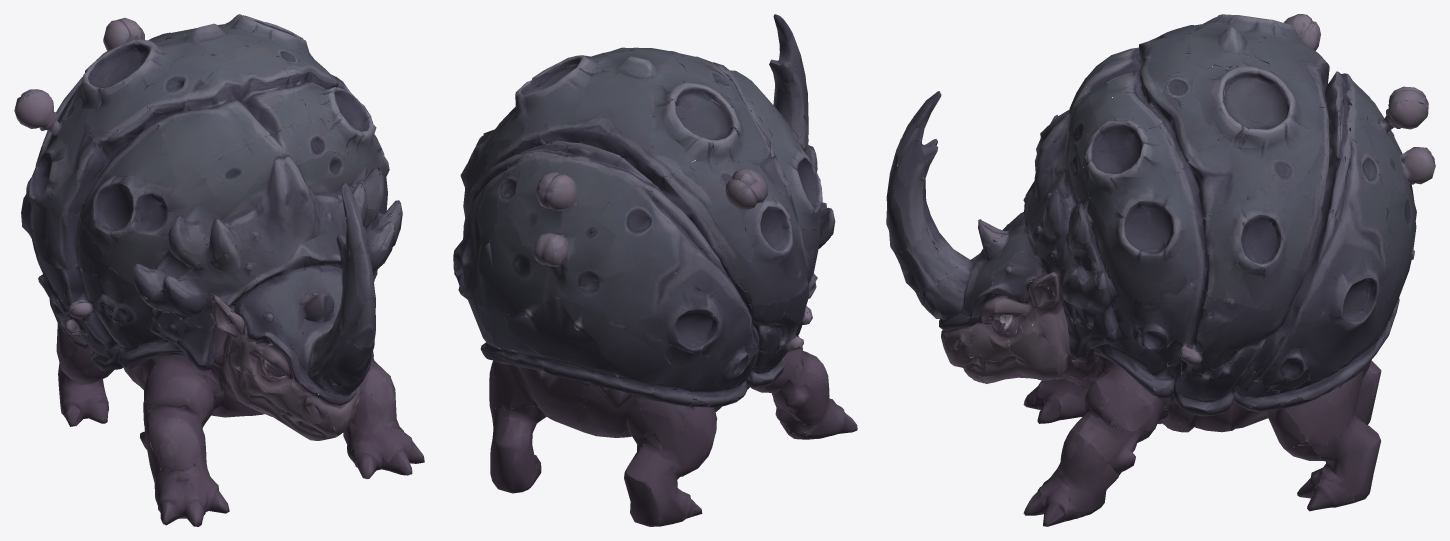
3 renders of one model, left to right at view 1: azimuth 30°, elevation 25°; view 2: azimuth 150°, elevation 25°; view 3: azimuth 270°, elevation 25°, orthographic. The views are drawn at different scales.
Visible parts, largest first — view 1: Mesh_0; view 2: Mesh_0; view 3: Mesh_0.
Part boxes in pixels (x1,y1,x2,y2): Mesh_0: [14, 14, 424, 526]; Mesh_0: [453, 14, 857, 526]; Mesh_0: [886, 14, 1435, 526].
Size of the model in its own units: 1.37 by 1.64 by 1.9.
Materials: 1 (1 with a texture image).
